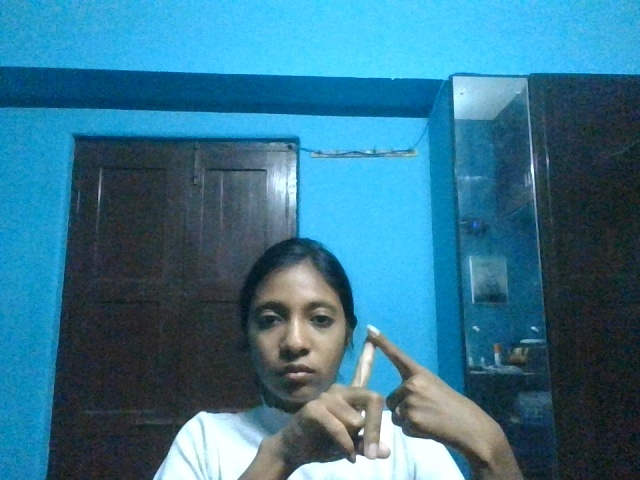E: (289, 323, 483, 480)
